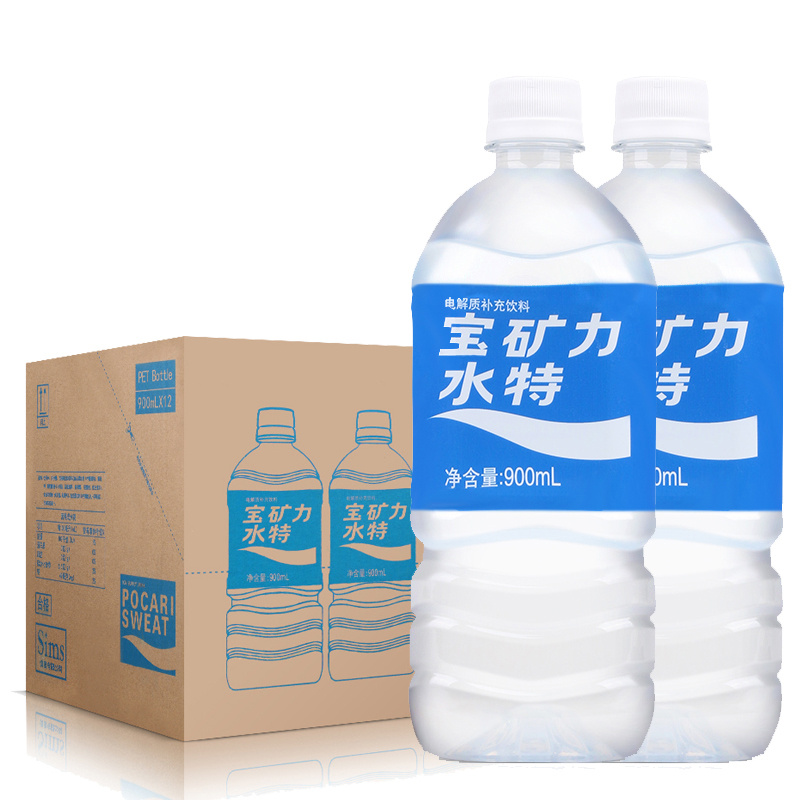POCARI SWEAT: (407, 66, 653, 753), (623, 83, 800, 763)
